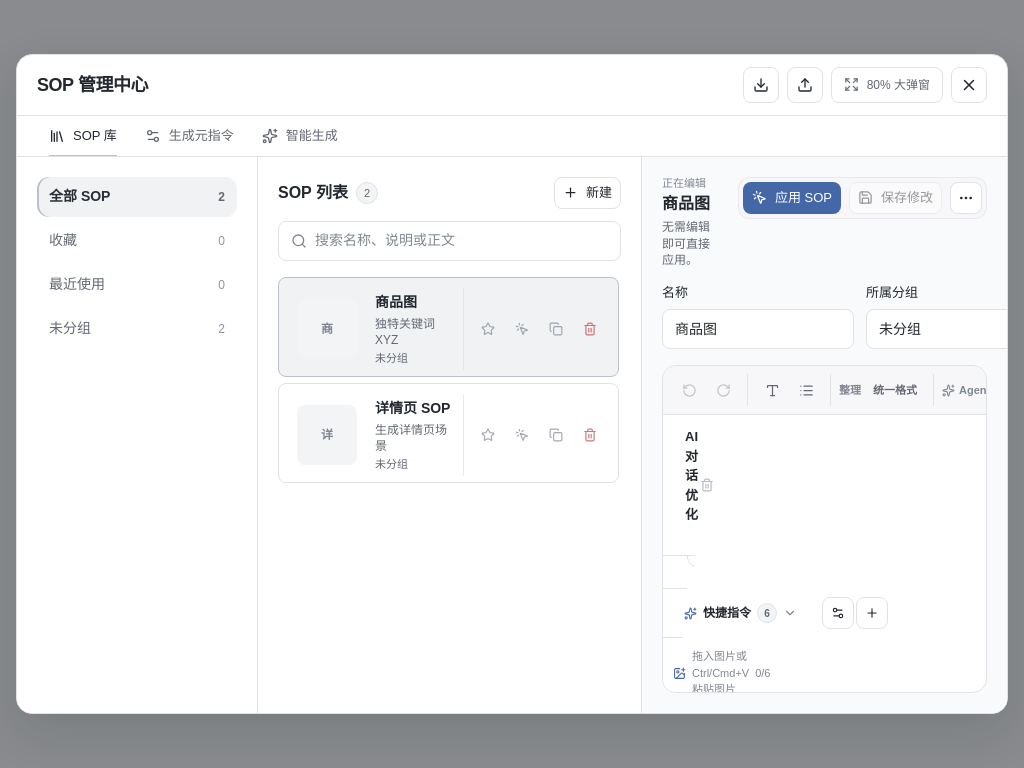
SopManagementCenter apply and save actions › searches SOPs by description as well as name and content
(page scrolled)
Type "独特关键词XYZ" into the search field with placeholder "搜索名称、说明或正文" at (458, 241), box x1=307 y1=230 x2=608 y2=251
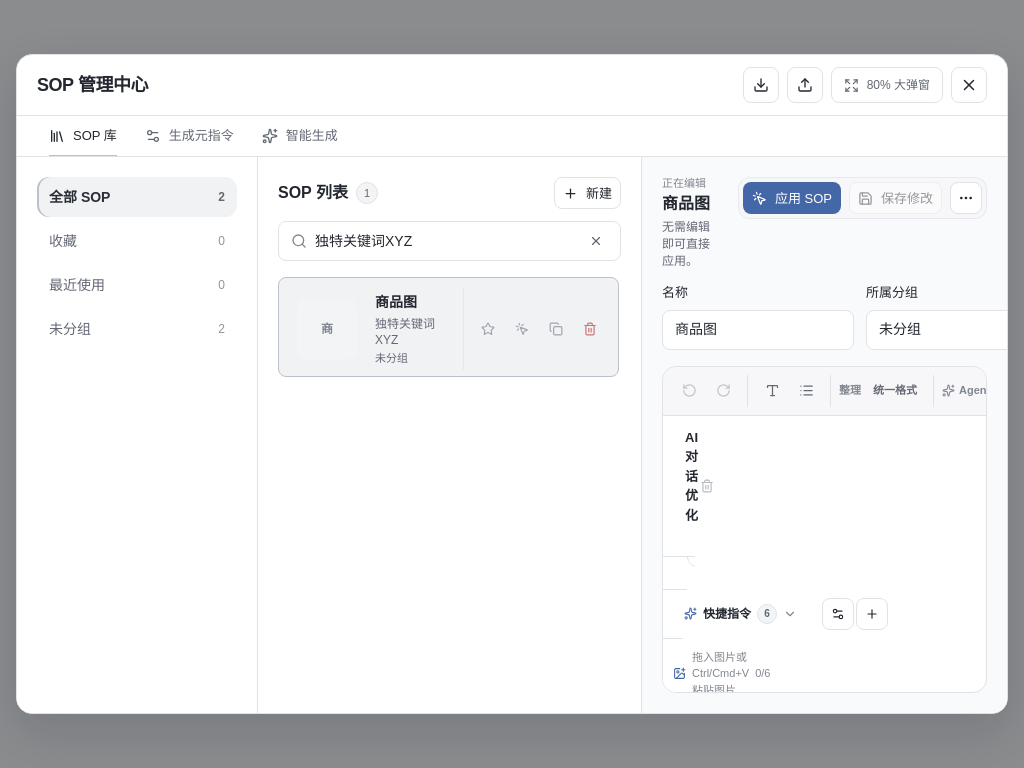
Check: the number of list items is 1, box x1=278 y1=277 x2=619 y2=377
